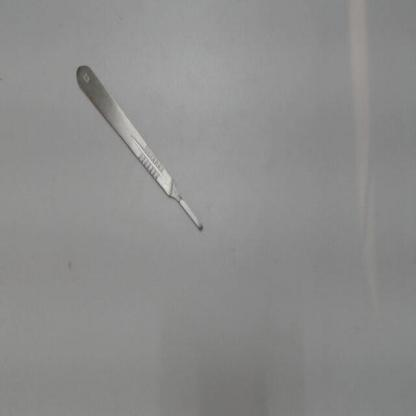No.4 BP Handle: (66, 44, 214, 252)
